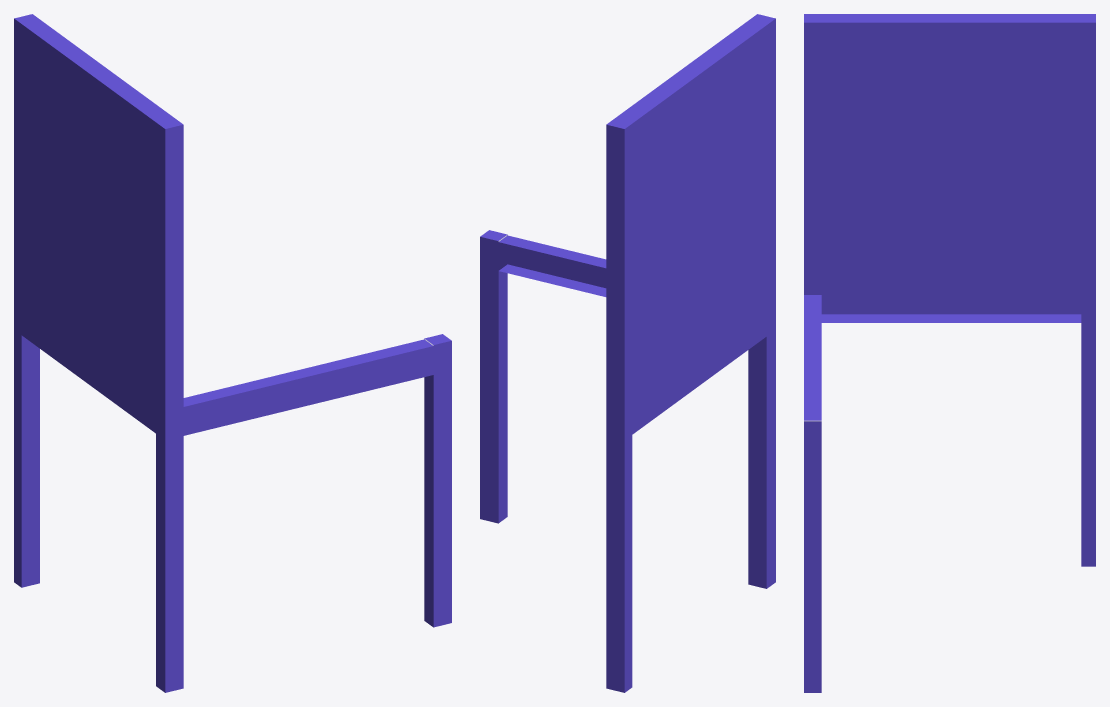
The model's file is chairpaintbroken.glb.
3 views of the same model, side by side, from view 1: azimuth 30°, elevation 25°; view 2: azimuth 150°, elevation 25°; view 3: azimuth 270°, elevation 25° (orthographic). The views are drawn at different scales.
Parts seen in each view (by area): view 1: Cube; view 2: Cube; view 3: Cube.
Boxes of the visible parts, left/top/right/bottom form: Cube: left=14, top=14, right=451, bottom=692; Cube: left=480, top=14, right=775, bottom=692; Cube: left=804, top=14, right=1095, bottom=692.
Bounding box in the file's own units: 1.7 × 3.19 × 1.55.
